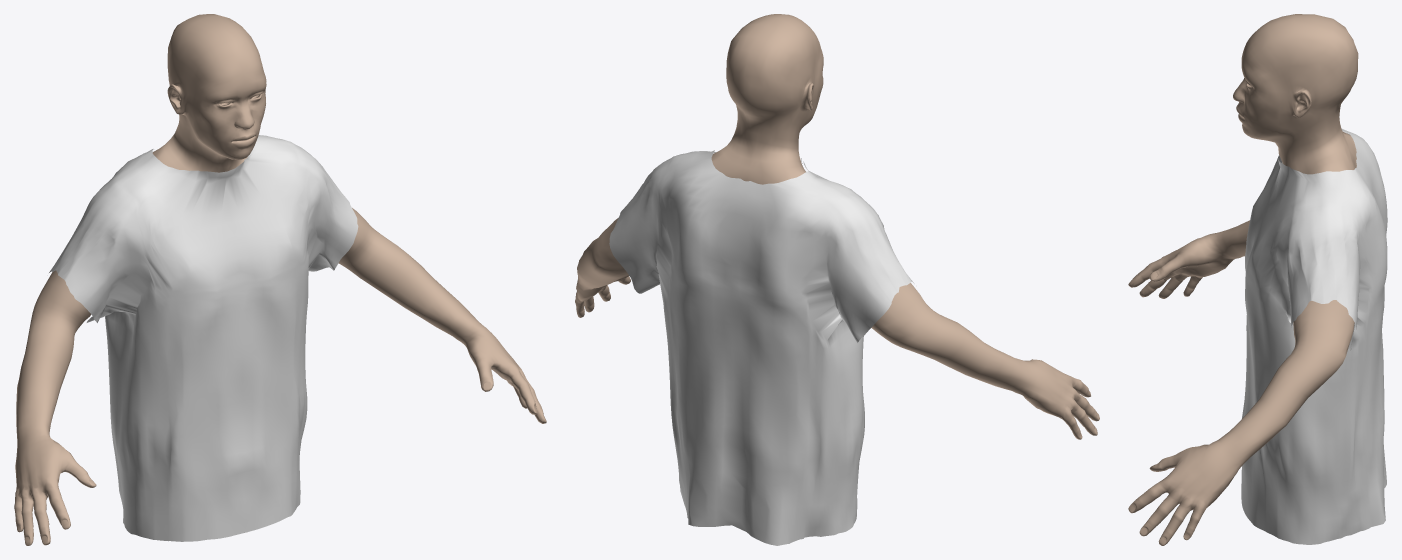
3 views of the same model, side by side, from view 1: azimuth 30°, elevation 25°; view 2: azimuth 150°, elevation 25°; view 3: azimuth 270°, elevation 25° (orthographic).
Parts seen in each view (by area): view 1: Cube.001, Base.001; view 2: Cube.001, Base.001; view 3: Cube.001, Base.001.
Boxes of the visible parts, <box> form: Cube.001: <box>49,135,358,541</box>; Base.001: <box>14,14,546,545</box>; Cube.001: <box>609,150,914,545</box>; Base.001: <box>575,14,1099,439</box>; Cube.001: <box>1241,128,1387,544</box>; Base.001: <box>1128,14,1358,545</box>.
Size of the model in its own units: 9.07 by 8.3 by 3.99.
